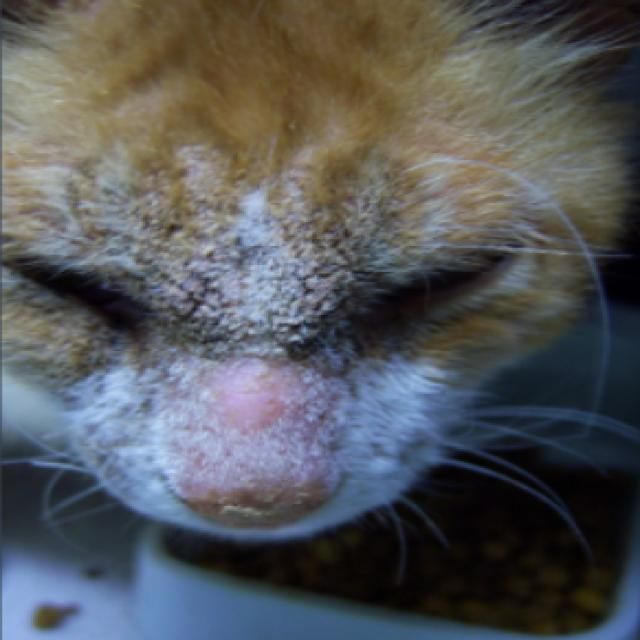ghe: (58, 159, 408, 355)
